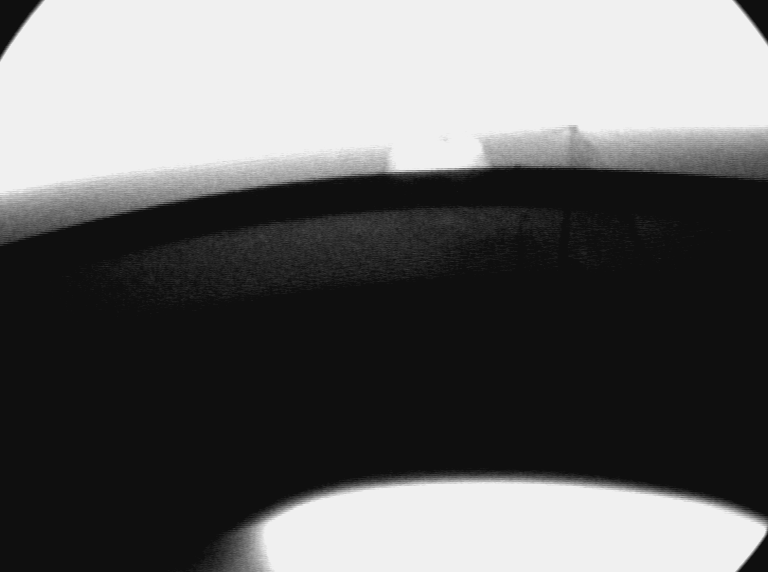defect: (382, 133, 499, 179)
